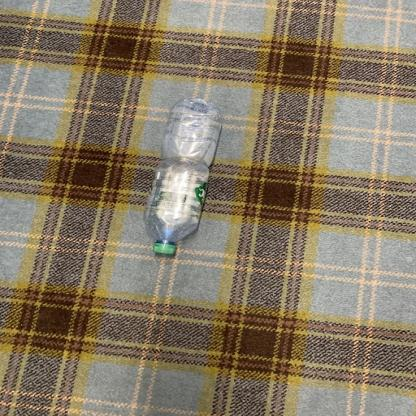trash: (152, 91, 223, 260)
